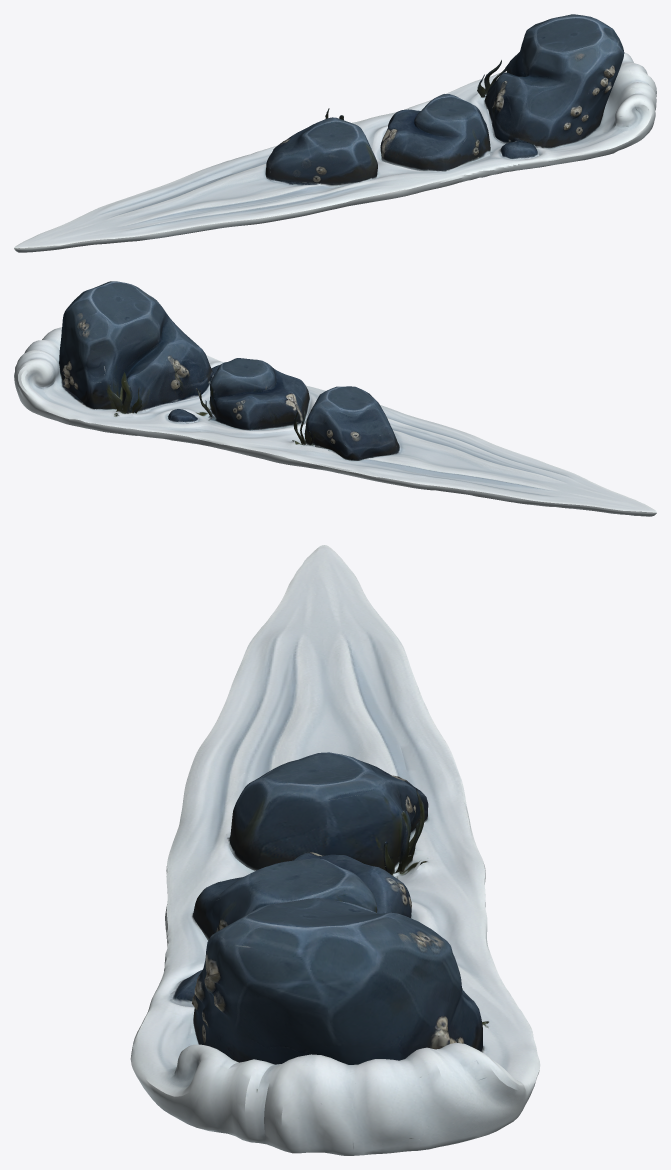
File: tidewake_current_wake_rocks.glb
3 views of the same model, one above another, from view 1: azimuth 30°, elevation 25°; view 2: azimuth 150°, elevation 25°; view 3: azimuth 270°, elevation 25° (orthographic). The views are drawn at different scales.
Parts seen in each view (by area): view 1: Mesh_0; view 2: Mesh_0; view 3: Mesh_0.
Part boxes in pixels (x1,y1,x2,y2): Mesh_0: [14, 14, 656, 252]; Mesh_0: [14, 281, 656, 516]; Mesh_0: [130, 545, 540, 1155].
Size of the model in its own units: 8.7 by 1.2 by 2.5.
1 material, 1 textured.
